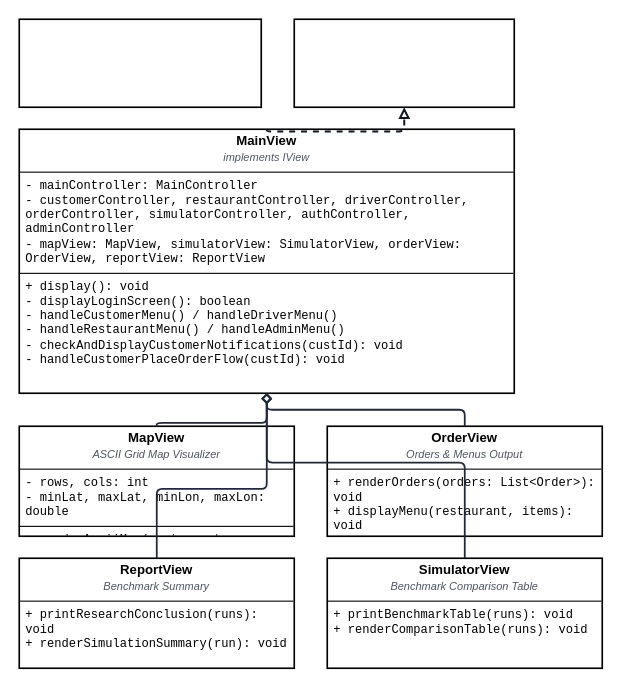
Some shapes in this 623 by 689 pixel diagram are drawn without their labels. Here are the shapes that lost their labels. From the top down, the box of each, then its label:
(18, 18, 262, 108): Main Application Entrypoint + main(args: String[]): void (static)
(293, 18, 515, 108): IView <<interface>> + display(): void
